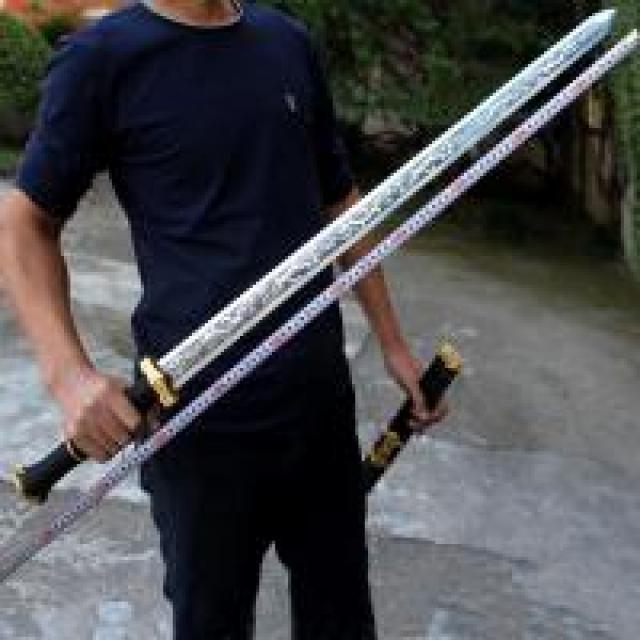long sword: (16, 6, 618, 510)
